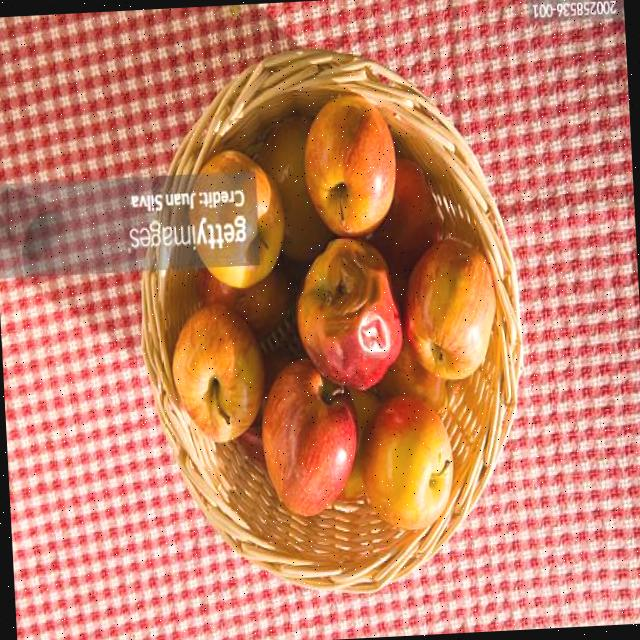Ripe: (256, 356, 359, 521), (396, 231, 497, 384), (359, 394, 456, 532), (166, 302, 258, 442)
overripe: (292, 236, 406, 391), (298, 87, 394, 236)
